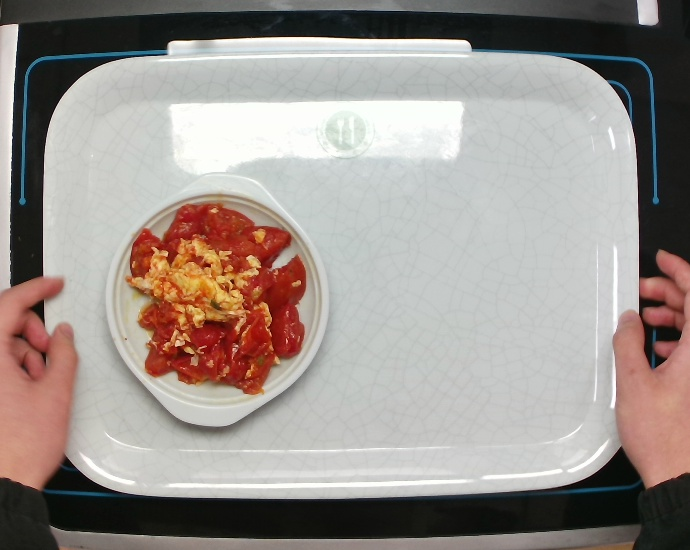JYsf-Shuang_Er_Pan: (99, 163, 336, 436)
